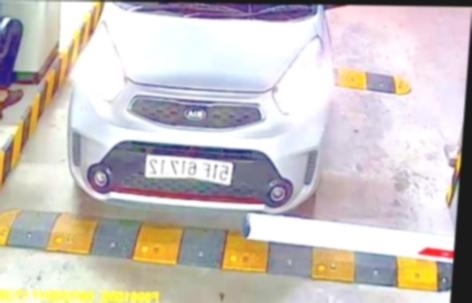License_Plate: (143, 152, 237, 187)
